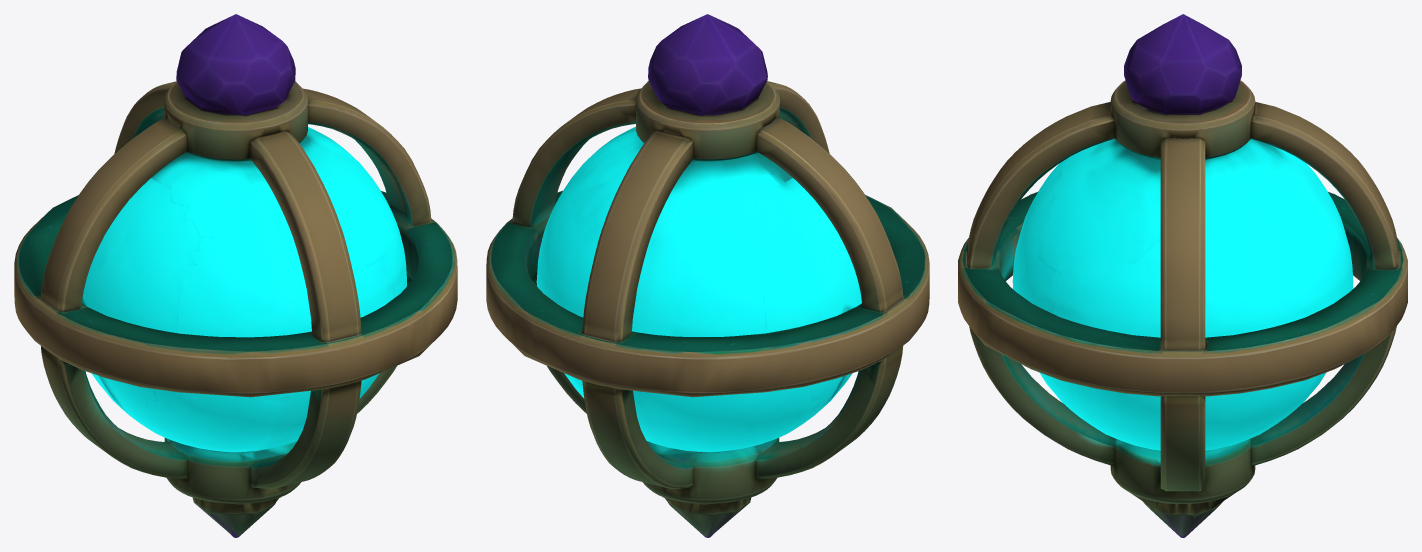
Rendered from Necron_Orb_OS_MML_Final.glb.
The picture shows the model from 3 angles, left to right: view 1: azimuth 30°, elevation 25°; view 2: azimuth 150°, elevation 25°; view 3: azimuth 270°, elevation 25°; orthographic projection.
Parts seen in each view (by area): view 1: material; view 2: material; view 3: material.
Part boxes in pixels (x1,y1,x2,y2): material: (14,14,457,537); material: (486,14,929,537); material: (958,14,1407,537).
Size of the model in its own units: 1.16 by 1.5 by 1.17.
1 material, 1 textured.
